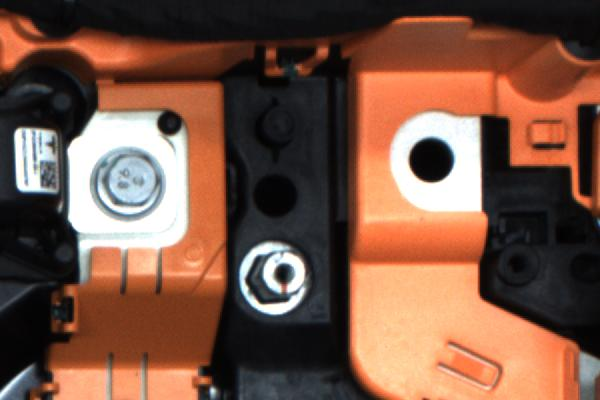nut_b: (90, 149, 168, 222)
